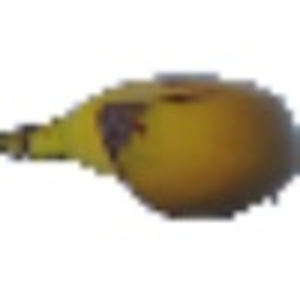banana: (5, 60, 297, 239)
